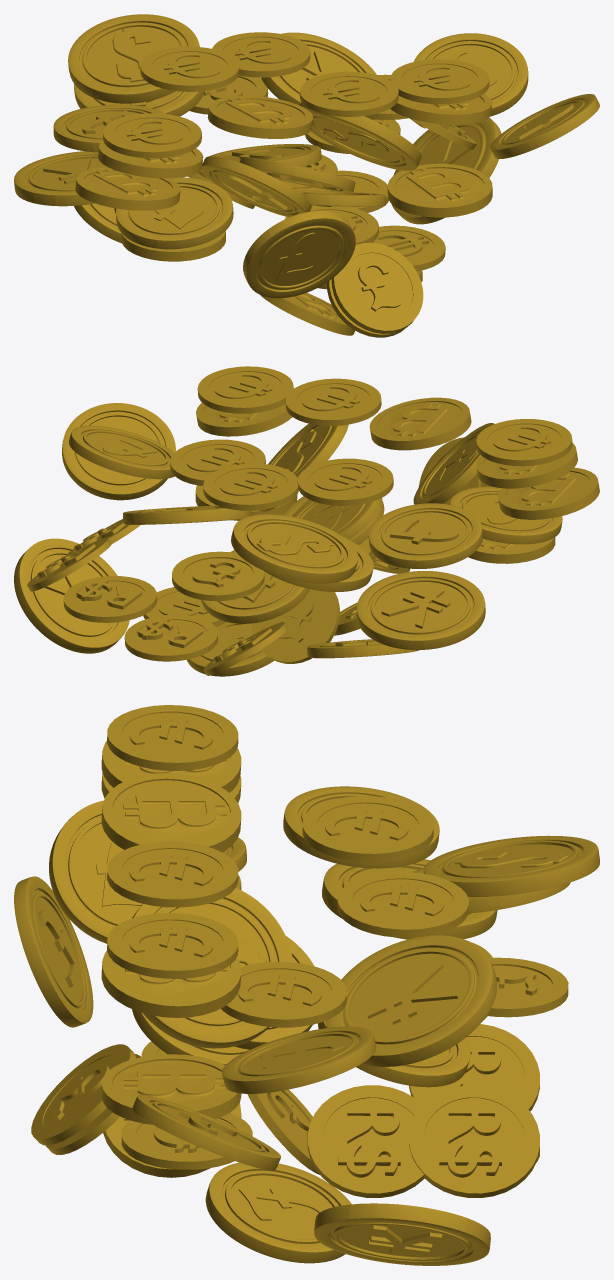
Rendered from three-coin-opt.glb.
The picture shows the model from 3 angles, top to bottom: view 1: azimuth 30°, elevation 25°; view 2: azimuth 150°, elevation 25°; view 3: azimuth 270°, elevation 25°; orthographic projection. The views are drawn at different scales.
Visible parts, largest first — view 1: Coin_Coin_0.008, Coin_Coin_0.015, Curve.008, Coin_Coin_0.029, Cylinder.016, pa.002, Coin_Coin_0.011, Cylinder.019, Cylinder.027, Cylinder.022, Cylinder.023, Cylinder.024 (+25 smaller); view 2: Coin_Coin_0.005, Coin_Coin_0.008, Coin_Coin_0.003, Coin_Coin_0.004, pa.003, Cylinder.019, pa.002, Cylinder.027, Cylinder.023, Cylinder.022, Cylinder.026, Cylinder.024 (+26 smaller); view 3: Coin_Coin_0.001, Text.008, Text.009, Coin_Coin_0.030, Coin_Coin_0.003, Cylinder.019, Coin_Coin_0.008, Coin_Coin_0.019, Coin_Coin_0.011, Coin_Coin_0.015, Cylinder.023, Cylinder.026 (+22 smaller).
Boxes of the visible parts, x1,y1,x2,y2 form: Coin_Coin_0.008: (68,14,199,103); Coin_Coin_0.015: (243,211,355,298); Curve.008: (331,242,423,333); Coin_Coin_0.029: (115,177,233,249); Cylinder.016: (387,163,492,217); pa.002: (413,33,528,116); Coin_Coin_0.011: (299,102,421,170); Cylinder.019: (207,95,313,138); Cylinder.027: (140,46,239,91); Cylinder.022: (103,113,201,158); Cylinder.023: (300,71,398,116); Cylinder.024: (390,59,489,104); Coin_Coin_0.005: (356,571,485,649); Coin_Coin_0.008: (231,514,358,583); Coin_Coin_0.003: (14,538,129,653); Coin_Coin_0.004: (368,503,482,568); pa.003: (62,403,175,500); Cylinder.019: (369,397,471,450); pa.002: (68,425,174,479); Cylinder.027: (297,458,393,505); Cylinder.023: (285,378,381,425); Cylinder.022: (476,419,572,466); Cylinder.026: (203,463,298,510); Cylinder.024: (197,366,293,413); Coin_Coin_0.001: (325,935,497,1066); Text.008: (409,1085,539,1197); Text.009: (307,1085,424,1197); Coin_Coin_0.030: (205,1162,351,1263); Coin_Coin_0.003: (314,1203,490,1265); Cylinder.019: (101,773,241,852); Coin_Coin_0.008: (423,835,599,897); Coin_Coin_0.019: (49,800,142,943); Coin_Coin_0.011: (132,888,293,1048); Coin_Coin_0.015: (14,876,93,1027); Cylinder.023: (107,841,238,907); Cylinder.026: (337,871,468,937).
Bounding box in the file's own units: 4.48 × 2.1 × 3.25.
